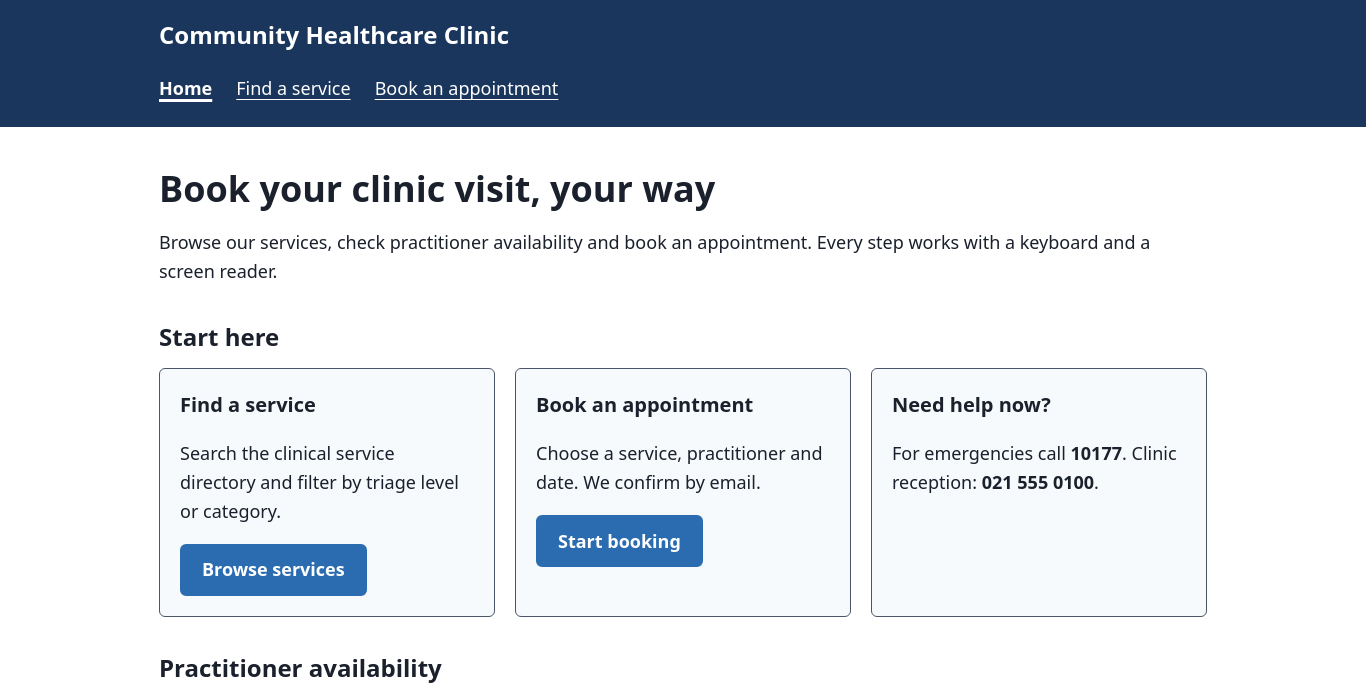
Test: Filterable resource listing with ARIA state › updates aria-expanded on the filter accordion and links it to its panel
Click the button "Find a service" at [293, 89], box [236,66,351,111]
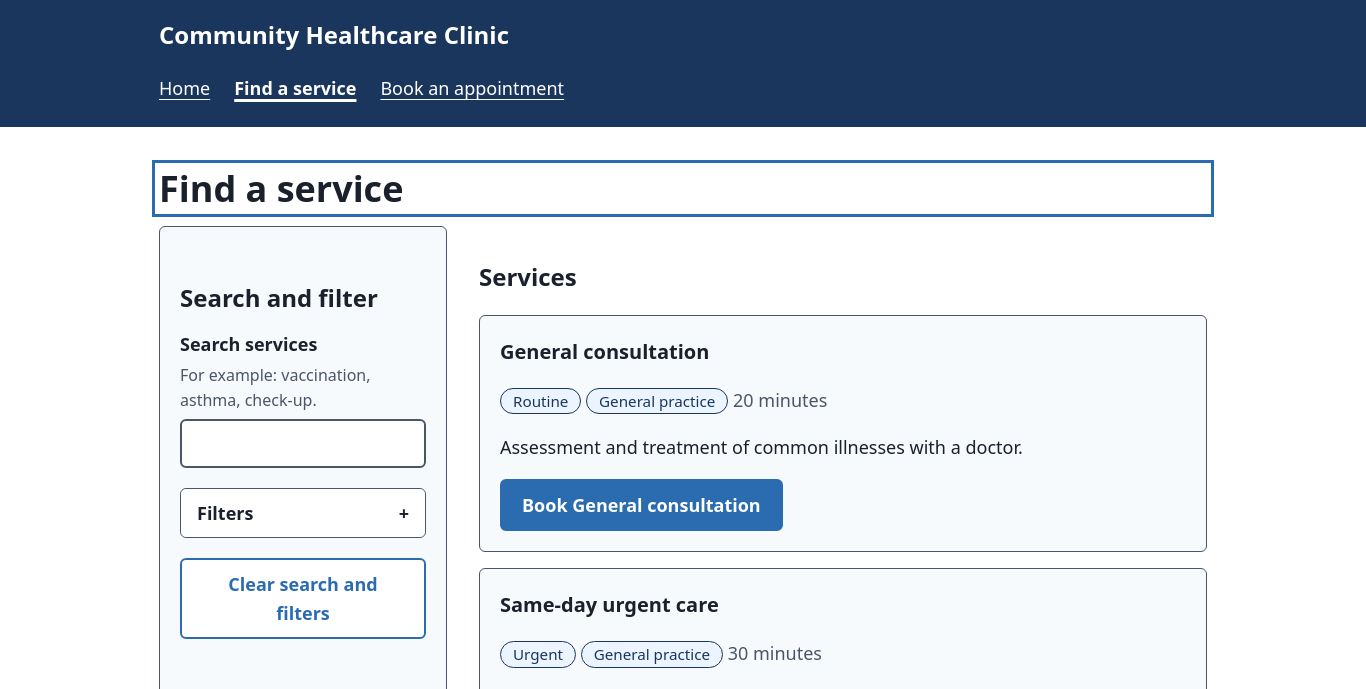
Click the button "Filters +" at [303, 513], box [181,489,425,537]
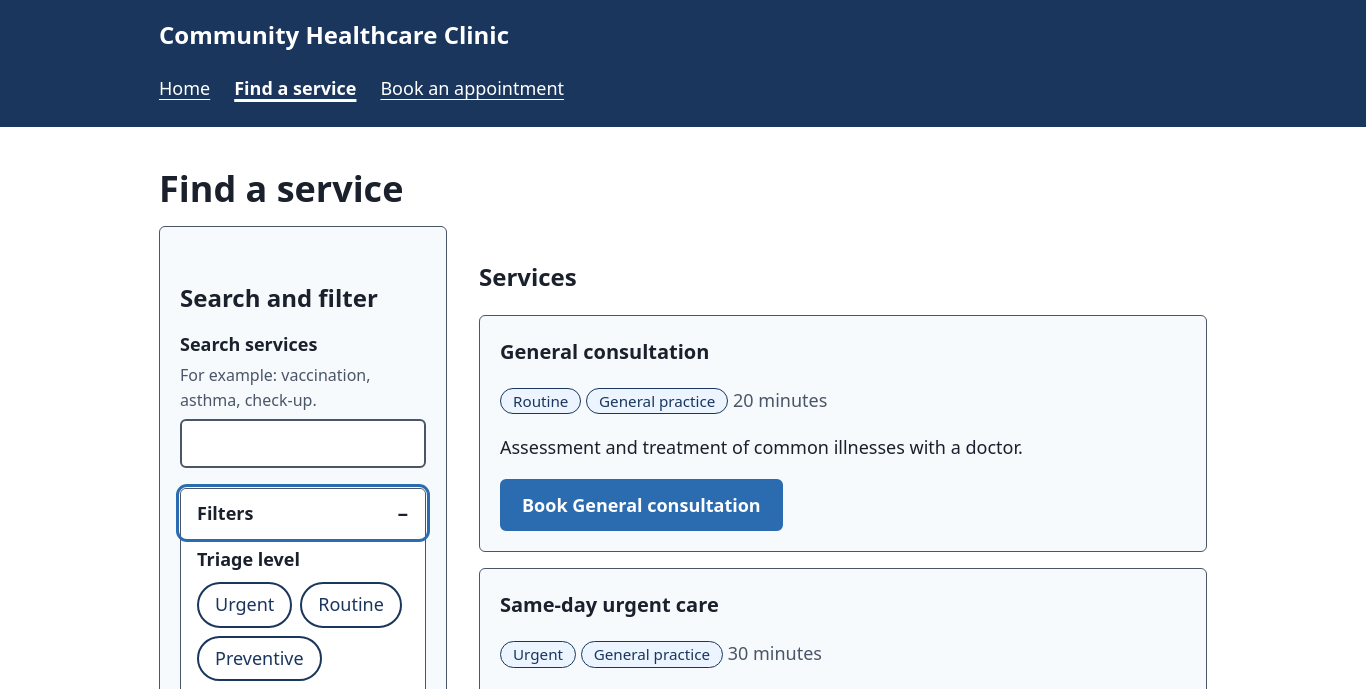
Check: the button "Filters −" is expanded
Click the button "Filters −" at [303, 513], box [181,489,425,537]
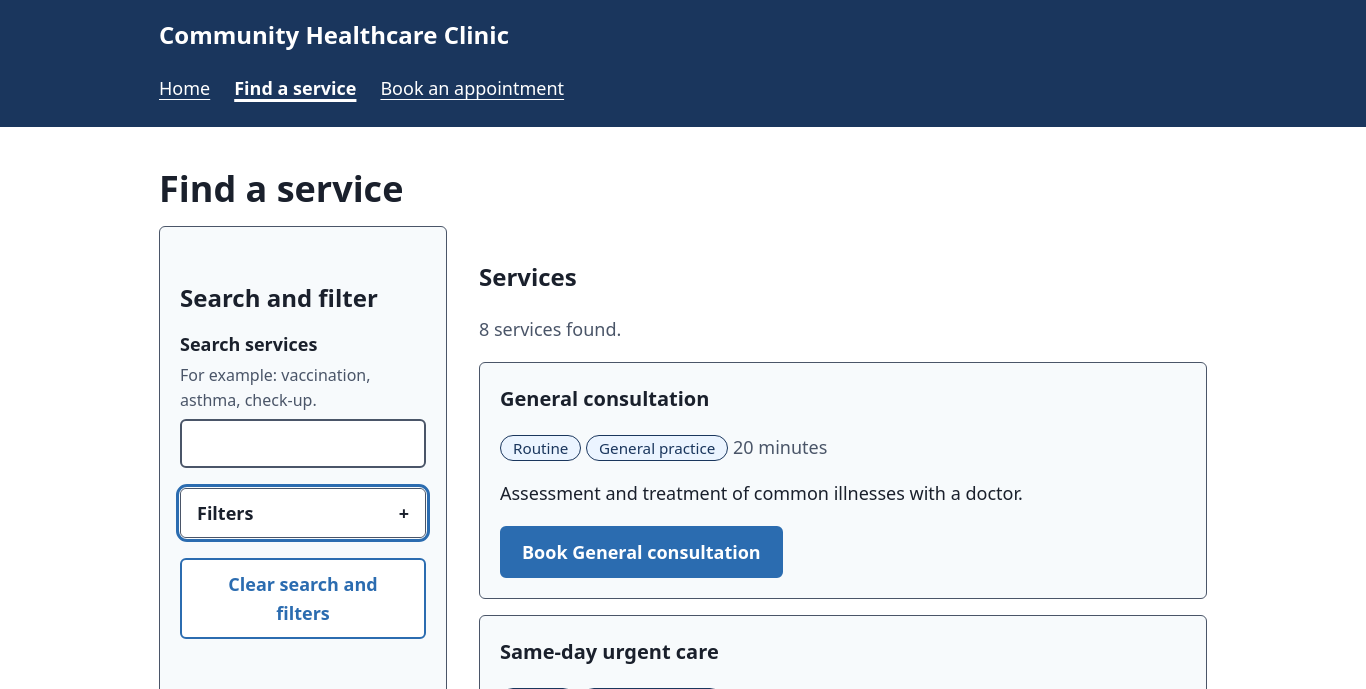
Check: the button "Filters +" is collapsed, box [181,489,425,537]
